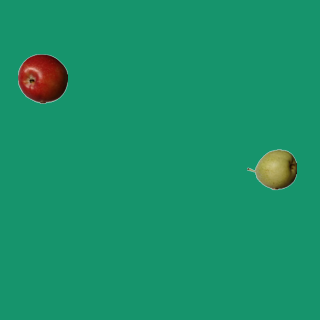Apple Braeburn: (17, 53, 67, 103)
Pear: (246, 144, 296, 194)
